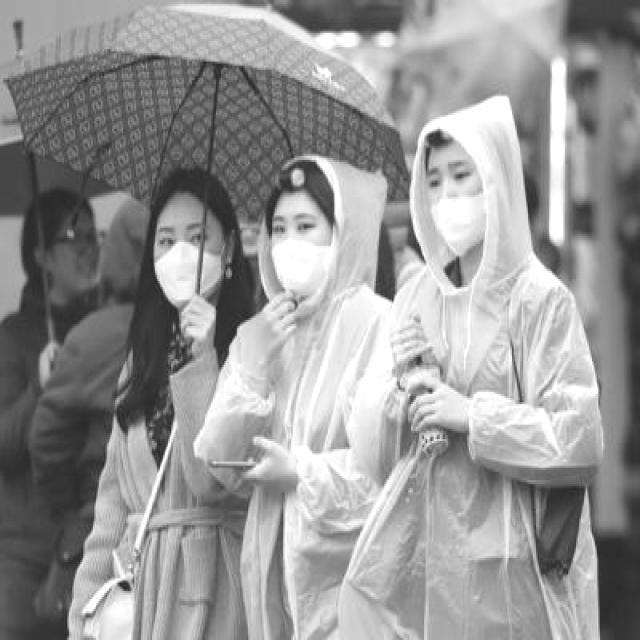face_mask: (154, 213, 227, 308), (424, 150, 488, 258), (267, 203, 333, 298)
face_nomask: (54, 216, 108, 294)
glasses: (62, 224, 108, 258)
hand_noglove: (403, 370, 461, 438), (241, 432, 298, 489), (389, 311, 432, 370), (179, 291, 218, 351), (259, 287, 299, 345)
head_nohelmet: (421, 102, 491, 152), (152, 172, 227, 218), (272, 160, 339, 211), (24, 191, 96, 211)
person: (372, 94, 582, 640), (205, 156, 403, 640), (81, 160, 258, 640)
